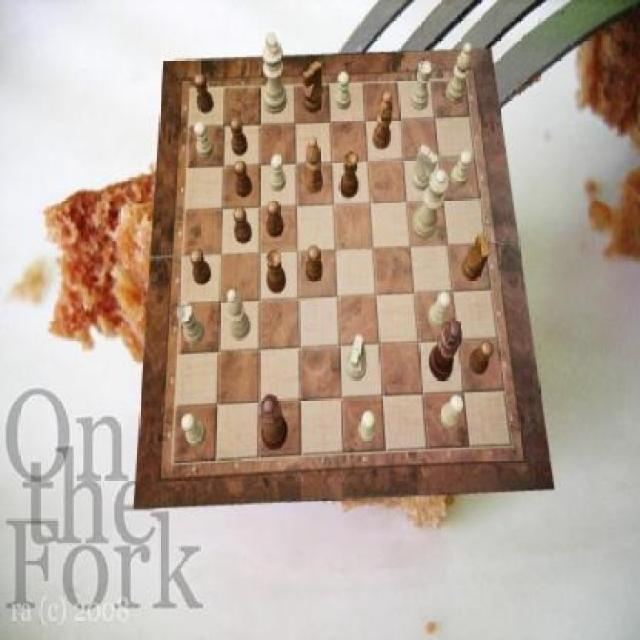bishop: (372, 92, 393, 150), (304, 137, 324, 193)
black-bishop: (430, 318, 462, 381)
black-king: (463, 234, 491, 281), (303, 61, 322, 114)
black-knight: (469, 340, 494, 375), (194, 74, 214, 114), (234, 160, 253, 198), (191, 250, 211, 286), (232, 208, 252, 244), (231, 117, 248, 155), (306, 246, 323, 282), (268, 200, 284, 238)
black-pawn: (258, 394, 288, 450)
black-queen: (340, 152, 360, 200), (266, 248, 286, 293)
black-rook: (446, 43, 473, 105), (228, 289, 252, 340)
white-bishop: (263, 34, 288, 115)
white-king: (412, 146, 440, 192), (345, 335, 367, 381)
white-knight: (440, 395, 464, 430), (449, 151, 472, 187), (182, 414, 206, 448), (428, 291, 450, 328), (194, 122, 214, 159), (269, 154, 286, 191), (337, 71, 352, 109), (359, 411, 376, 443)
white-pawn: (412, 170, 450, 238)
white-queen: (177, 302, 205, 346), (409, 60, 432, 111)
